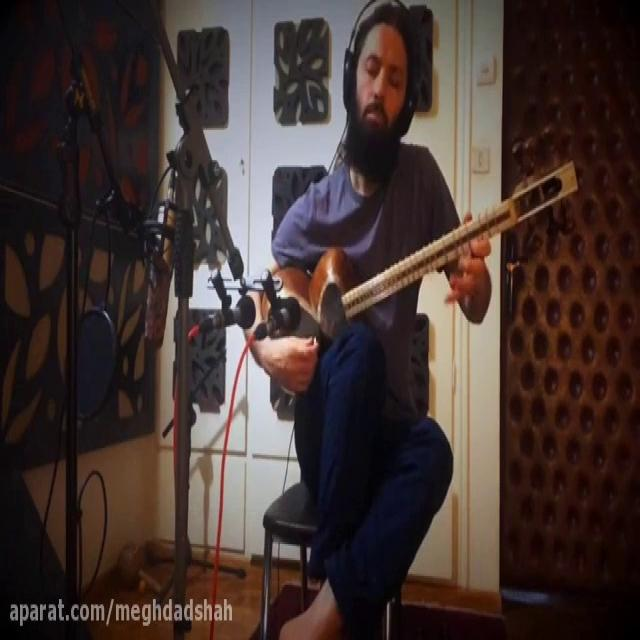Setar: (253, 119, 594, 395)
